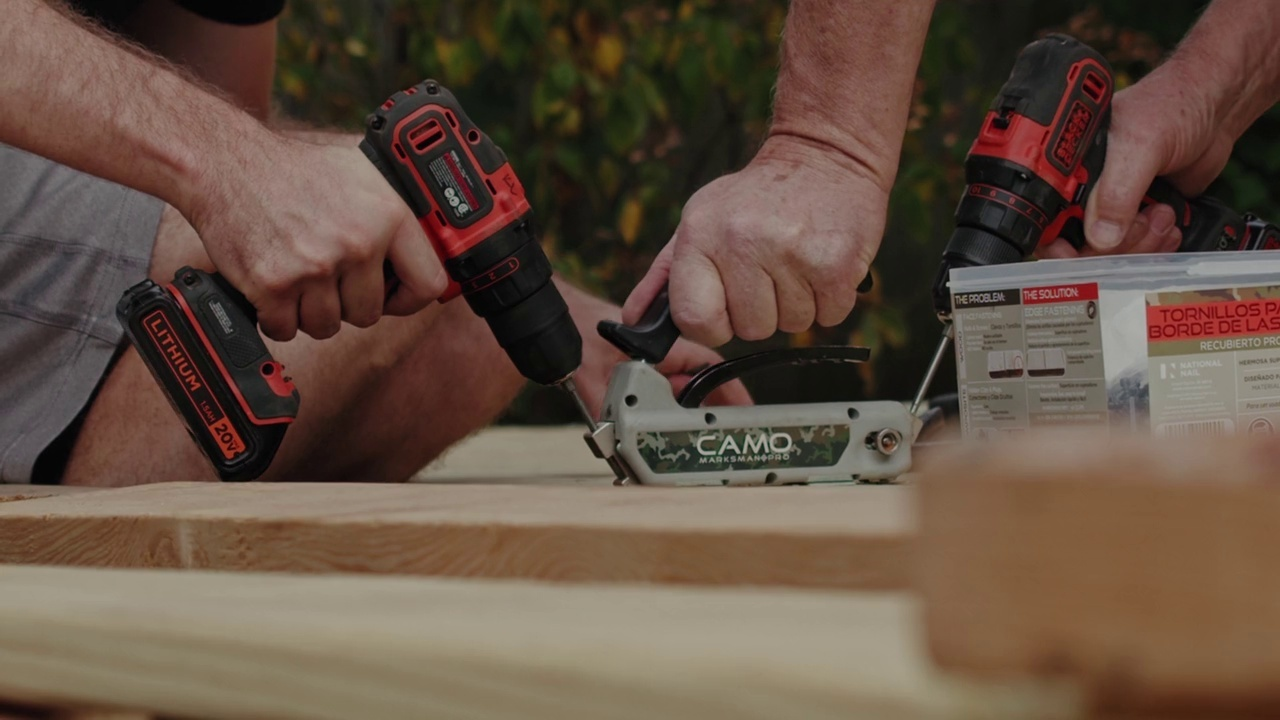driller: (112, 76, 594, 480), (912, 26, 1274, 419)
